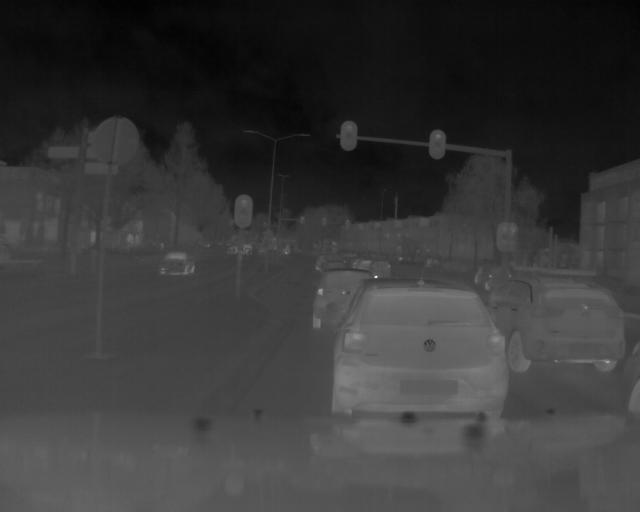car: (329, 281, 511, 421), (503, 277, 625, 375), (158, 250, 198, 278)
